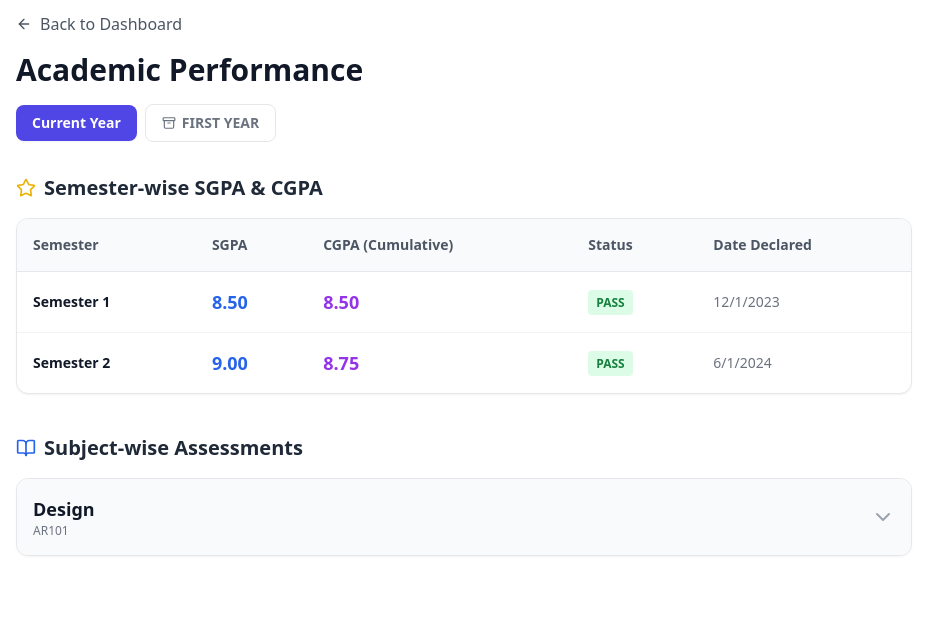
StudentResults Component › handles archived years filtering
Step 1. Click the button "FIRST YEAR" → point(211, 123), box [145,104,276,142]
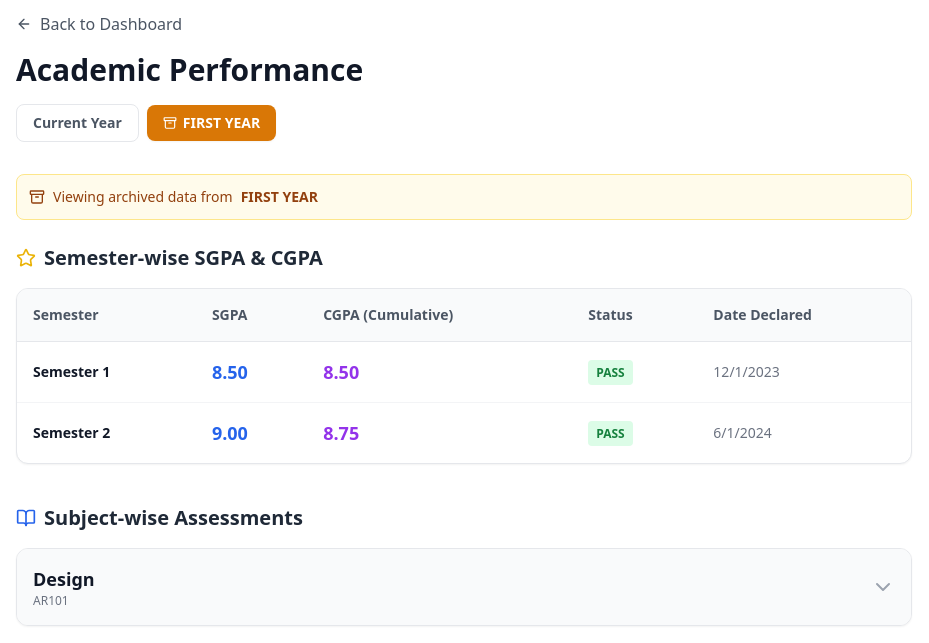
expect the text "Viewing archived data from FIRST YEAR" is shown: met, box [16,174,912,220]
